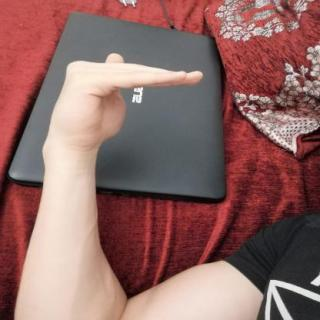KHAA: (31, 46, 217, 162)
